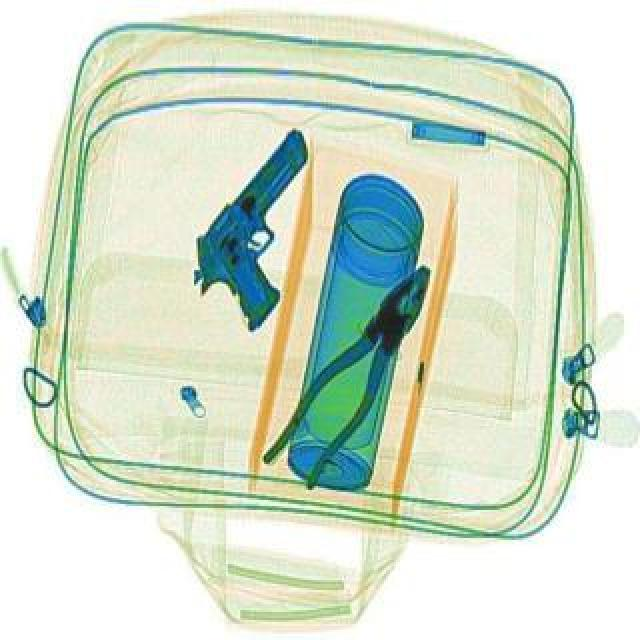gun: (166, 124, 378, 332)
wrench: (258, 248, 454, 492)
